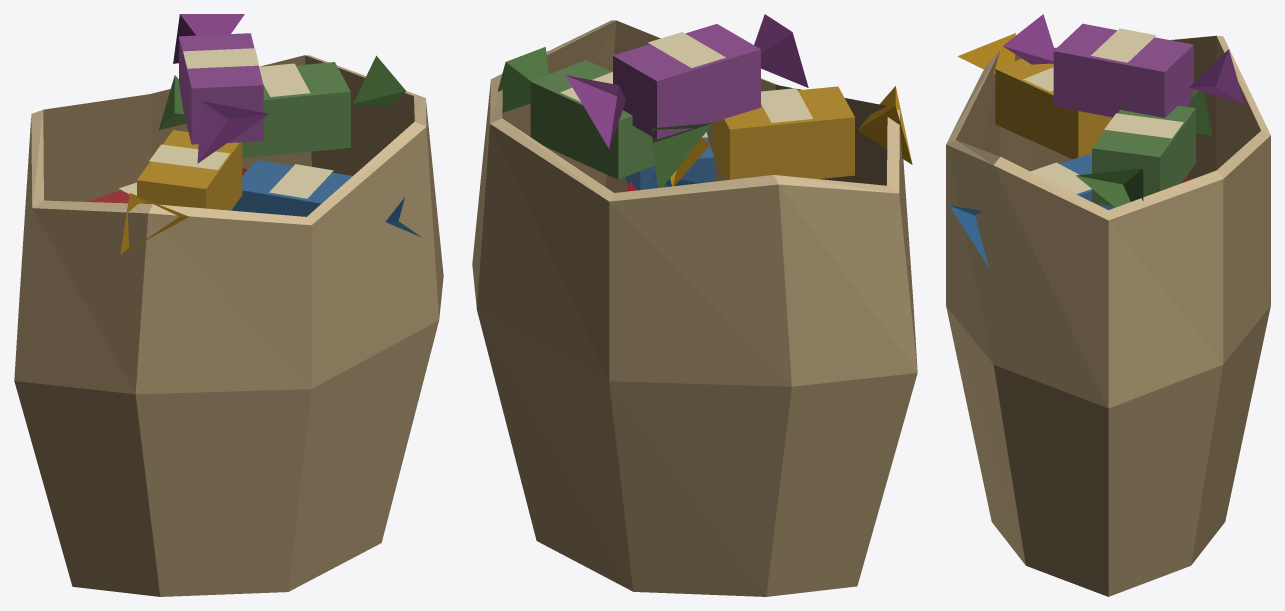
Rendered from candy-bag.glb.
3 renders of one model, left to right at view 1: azimuth 30°, elevation 25°; view 2: azimuth 150°, elevation 25°; view 3: azimuth 270°, elevation 25°, orthographic. The views are drawn at different scales.
Visible parts, largest first — view 1: Small_Bag_Five_Candies; view 2: Small_Bag_Five_Candies; view 3: Small_Bag_Five_Candies.
Boxes of the visible parts, x1,y1,x2,y2 form: Small_Bag_Five_Candies: (14,14,443,596); Small_Bag_Five_Candies: (472,14,917,596); Small_Bag_Five_Candies: (946,14,1270,596).
Bounding box in the file's own units: 0.096 × 0.104 × 0.064.
1 material, 1 textured.
